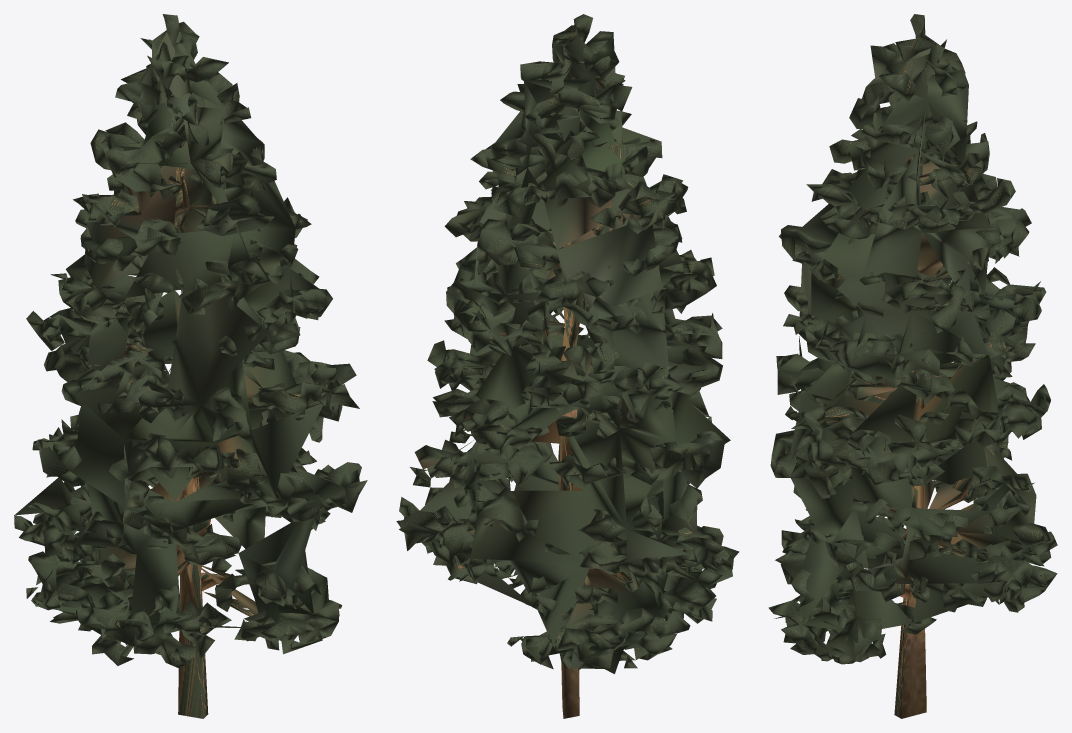
File: pino_joven.glb
The picture shows the model from 3 angles, left to right: view 1: azimuth 30°, elevation 25°; view 2: azimuth 150°, elevation 25°; view 3: azimuth 270°, elevation 25°; orthographic projection. The views are drawn at different scales.
Visible parts, largest first — view 1: cerca, lejos, medio; view 2: cerca, lejos, medio; view 3: cerca, lejos, medio.
Part boxes in pixels (<box>): cerca: <box>14,14,366,718</box>; lejos: <box>14,34,343,653</box>; medio: <box>31,30,367,706</box>; cerca: <box>396,14,739,718</box>; lejos: <box>420,32,730,668</box>; medio: <box>404,18,724,697</box>; cerca: <box>768,14,1057,718</box>; lejos: <box>790,46,1040,657</box>; medio: <box>772,35,1056,661</box>.
Size of the model in its own units: 1.94 by 3.99 by 1.52.
2 materials, 1 textured.
